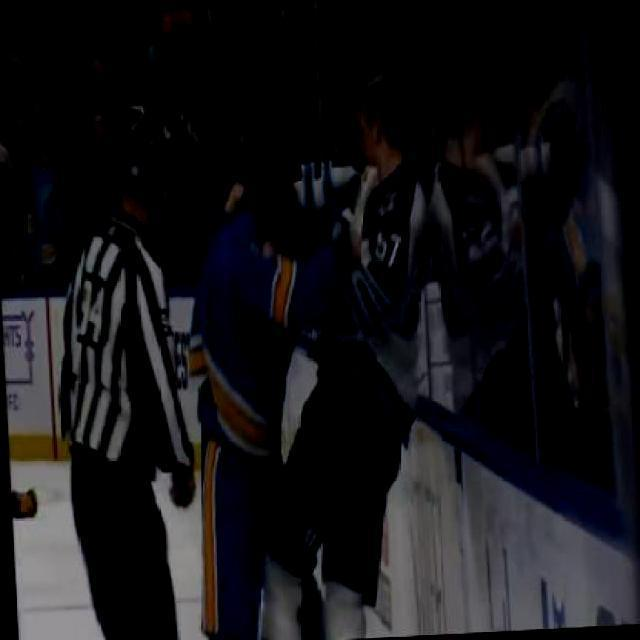fight: (184, 73, 433, 632)
